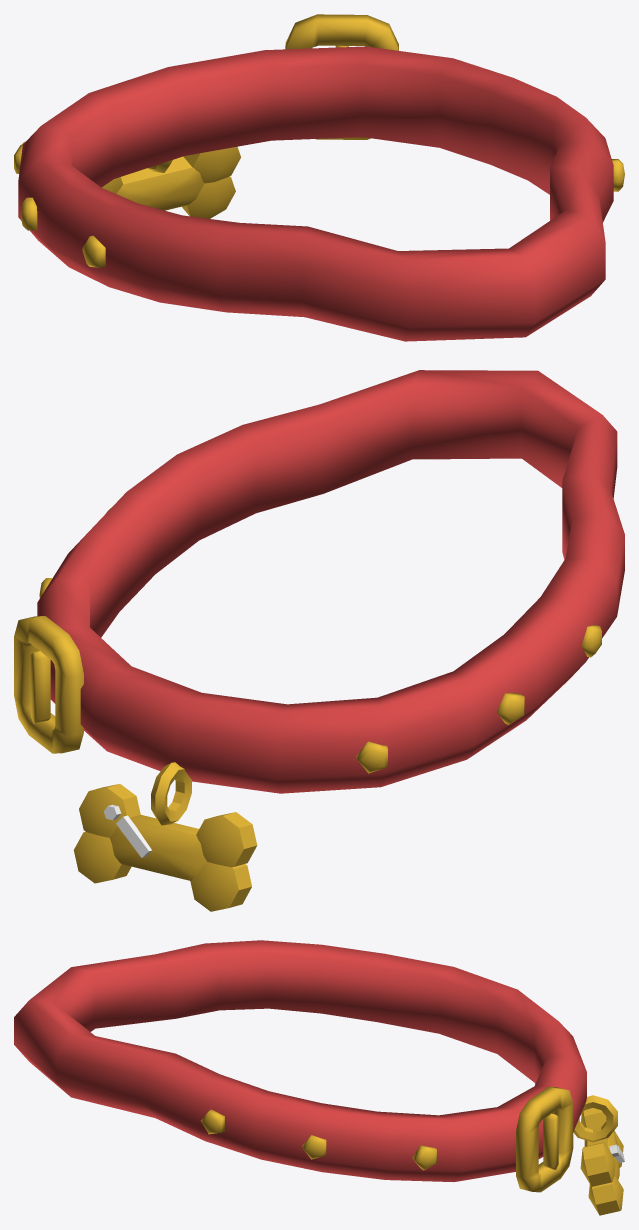
Rendered from collier_medaille.fbx.
3 renders of one model, top to bottom at view 1: azimuth 30°, elevation 25°; view 2: azimuth 150°, elevation 25°; view 3: azimuth 270°, elevation 25°, orthographic. The views are drawn at different scales.
Parts seen in each view (by area): view 1: Collier, Anim_Medaille; view 2: Collier, Anim_Medaille; view 3: Collier, Anim_Medaille.
Part boxes in pixels (x1,y1,x2,y2): Collier: (14,14,624,341); Anim_Medaille: (101,146,240,218); Collier: (14,370,624,793); Anim_Medaille: (73,762,257,911); Collier: (14,940,586,1192); Anim_Medaille: (573,1095,624,1215).
Bounding box in the file's own units: 0.7238 × 0.3514 × 1.01.
